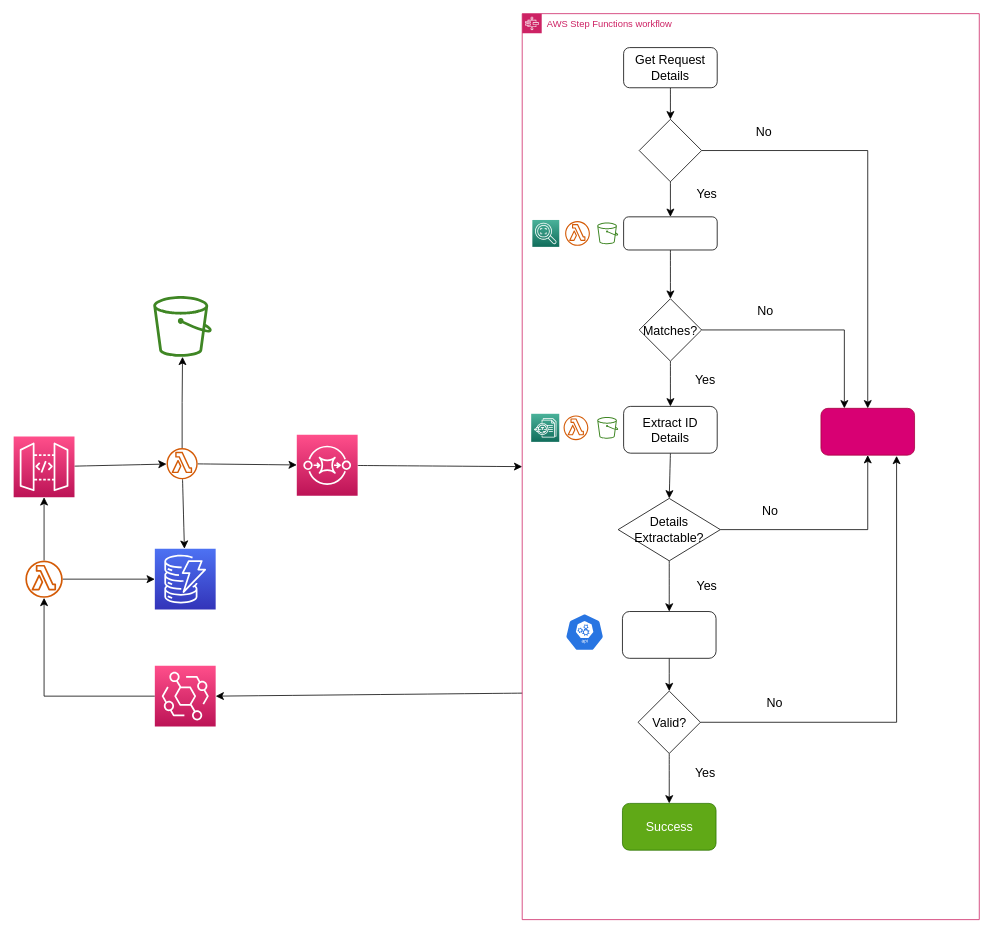
The diagram is 993 pixels wide and 934 high, and some of its shapes have lost their labels. Here are the shapes that lost their labels. From the top down, the centre of each, then its label:
(670,150): Is Valid?
(670,233): Facial Match
(867,431): Failure
(669,634): Validate Details
